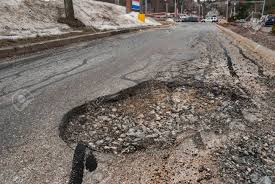pothole: (60, 83, 235, 160)
